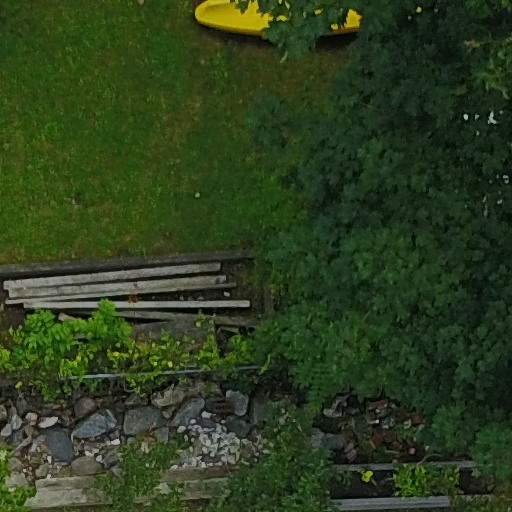kayak: (185, 1, 357, 43)
toy: (187, 1, 359, 43)
